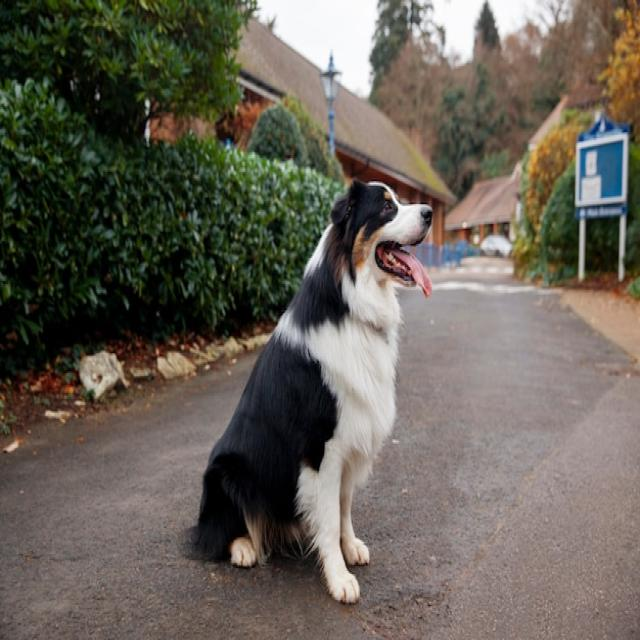Dog: (185, 177, 432, 603)
